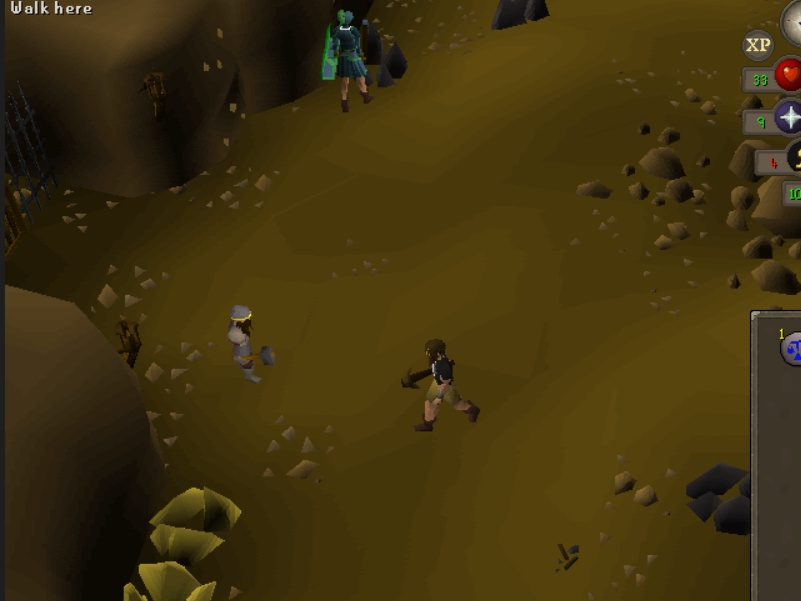gold: (142, 478, 246, 564), (116, 559, 224, 601)
